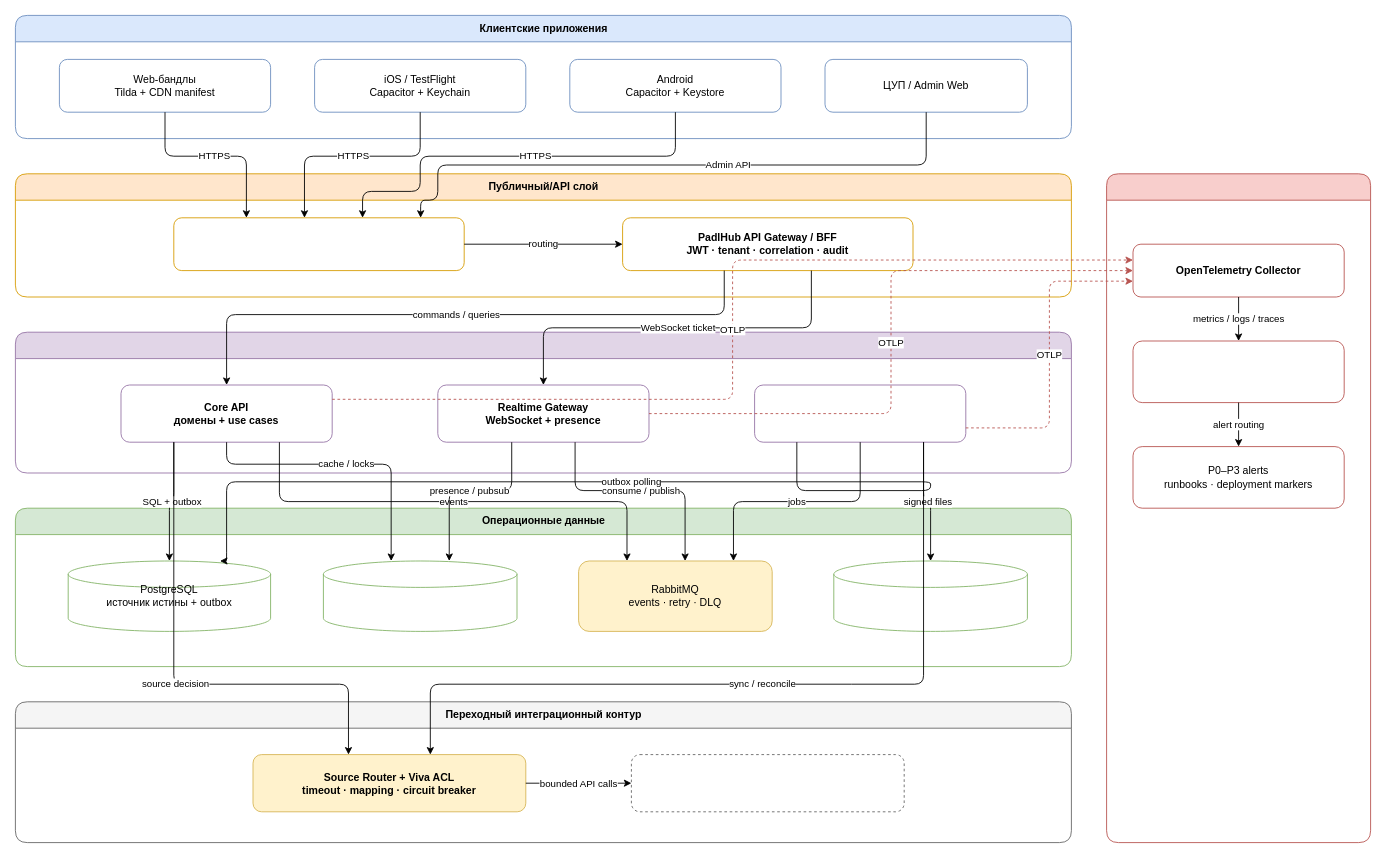
Some shapes in this 1386 by 858 pixel diagram are drawn without their labels. The shapes that lost their labels are listed below. From the top down, each one's box as (x1, y1, x2, y2) in pixels, then its label:
(173, 217, 464, 271): CDN / WAF / Load Balancer TLS · rate limits · health routing
(1132, 340, 1344, 403): Prometheus · Grafana Loki · Tempo · Sentry
(15, 331, 1071, 473): Приложения модульного монолита
(754, 384, 966, 442): Background Workers sync · push · retry · reconcile
(1106, 173, 1371, 843): Наблюдаемость
(323, 560, 517, 631): Redis кэш · locks · rate state
(833, 560, 1027, 631): S3-compatible storage файлы через signed URL
(631, 754, 904, 812): Viva CRM временный владелец отдельных доменов
